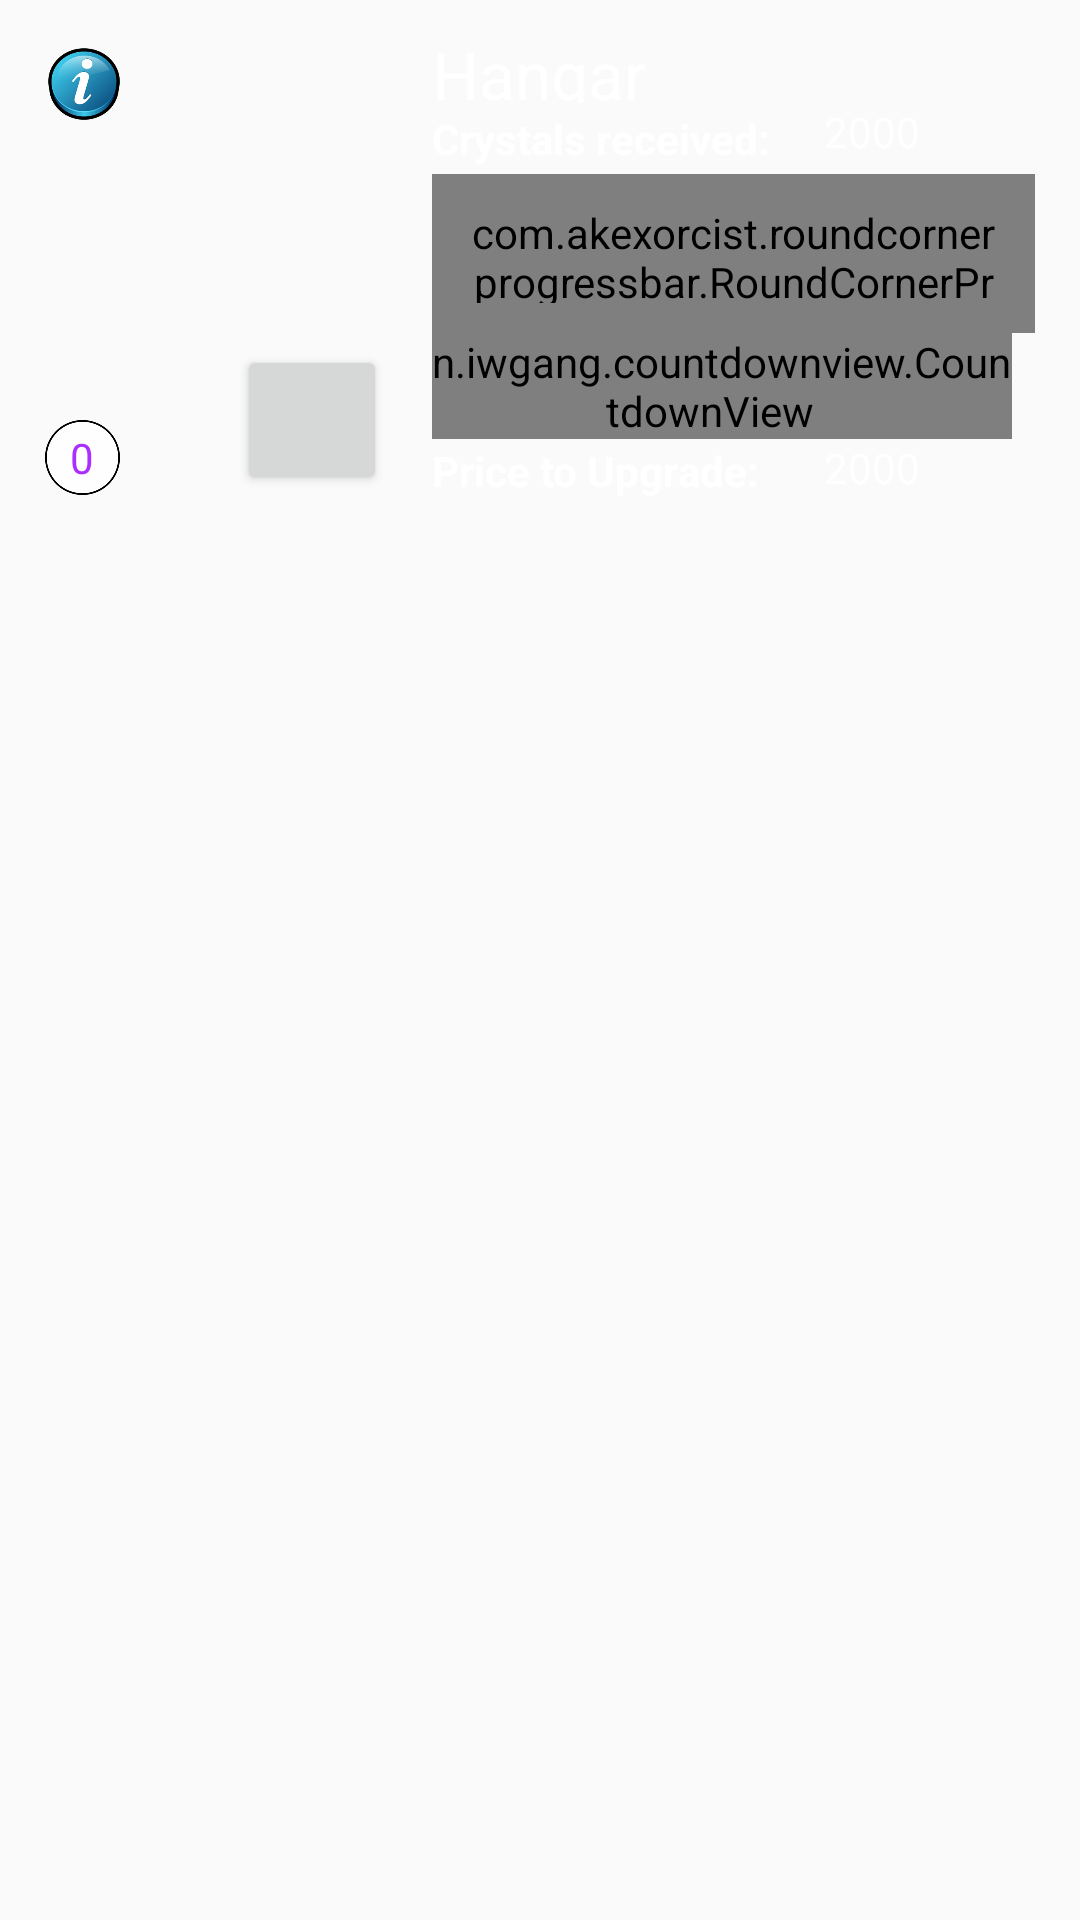

Icons on this 1080px x 1920px Android screen, each with the point to tap as (x=x, y=y):
info: (x=84, y=84)
